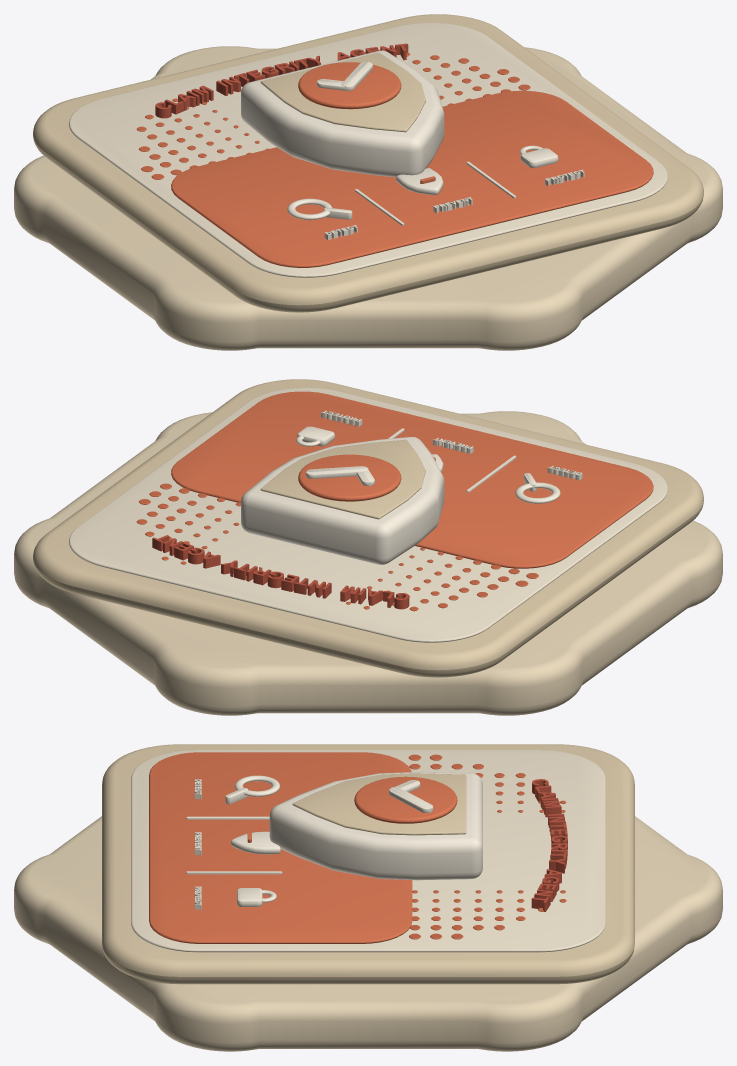
The model's file is ClaimIntegrityAgent.glb.
3 renders of one model, top to bottom at view 1: azimuth 30°, elevation 25°; view 2: azimuth 150°, elevation 25°; view 3: azimuth 270°, elevation 25°, orthographic.
Visible parts, largest first — view 1: CIA_Tray, CIA_Band, CIA_Card, CIA_Content, CIA_Shield, CIA_ShieldIn, CIA_Disc, CIA_Title, CIA_PvShield, CIA_LockBody, CIA_MagRing; view 2: CIA_Tray, CIA_Content, CIA_Band, CIA_Card, CIA_Shield, CIA_ShieldIn, CIA_Title, CIA_Disc, CIA_Chk2, CIA_MagRing; view 3: CIA_Tray, CIA_Band, CIA_Content, CIA_Card, CIA_Shield, CIA_ShieldIn, CIA_Disc, CIA_Title, CIA_PvShield, CIA_MagRing, CIA_Chk2.
Boxes of the visible parts, <box> form: CIA_Tray: <box>14,46,722,350</box>; CIA_Band: <box>171,90,653,267</box>; CIA_Card: <box>33,14,703,312</box>; CIA_Content: <box>69,23,667,277</box>; CIA_Shield: <box>241,50,444,177</box>; CIA_ShieldIn: <box>260,52,425,132</box>; CIA_Disc: <box>298,62,401,109</box>; CIA_Title: <box>155,43,408,118</box>; CIA_PvShield: <box>396,168,443,194</box>; CIA_LockBody: <box>520,148,558,168</box>; CIA_MagRing: <box>287,198,332,219</box>; CIA_Tray: <box>14,411,722,715</box>; CIA_Content: <box>69,388,667,642</box>; CIA_Band: <box>171,391,653,568</box>; CIA_Card: <box>33,379,703,677</box>; CIA_Shield: <box>241,437,444,564</box>; CIA_ShieldIn: <box>260,439,425,519</box>; CIA_Title: <box>152,535,409,609</box>; CIA_Disc: <box>298,454,401,501</box>; CIA_Chk2: <box>306,466,368,478</box>; CIA_MagRing: <box>515,482,560,503</box>; CIA_Tray: <box>14,816,722,1051</box>; CIA_Band: <box>149,752,412,943</box>; CIA_Content: <box>131,750,605,952</box>; CIA_Card: <box>102,744,634,984</box>; CIA_Shield: <box>269,772,482,880</box>; CIA_ShieldIn: <box>292,773,466,835</box>; CIA_Disc: <box>354,776,457,823</box>; CIA_Title: <box>531,779,567,911</box>; CIA_PvShield: <box>231,831,280,854</box>; CIA_MagRing: <box>235,775,280,796</box>; CIA_Chk2: <box>389,787,433,812</box>.
Bounding box in the file's own units: 2.46 × 0.555 × 2.75.
